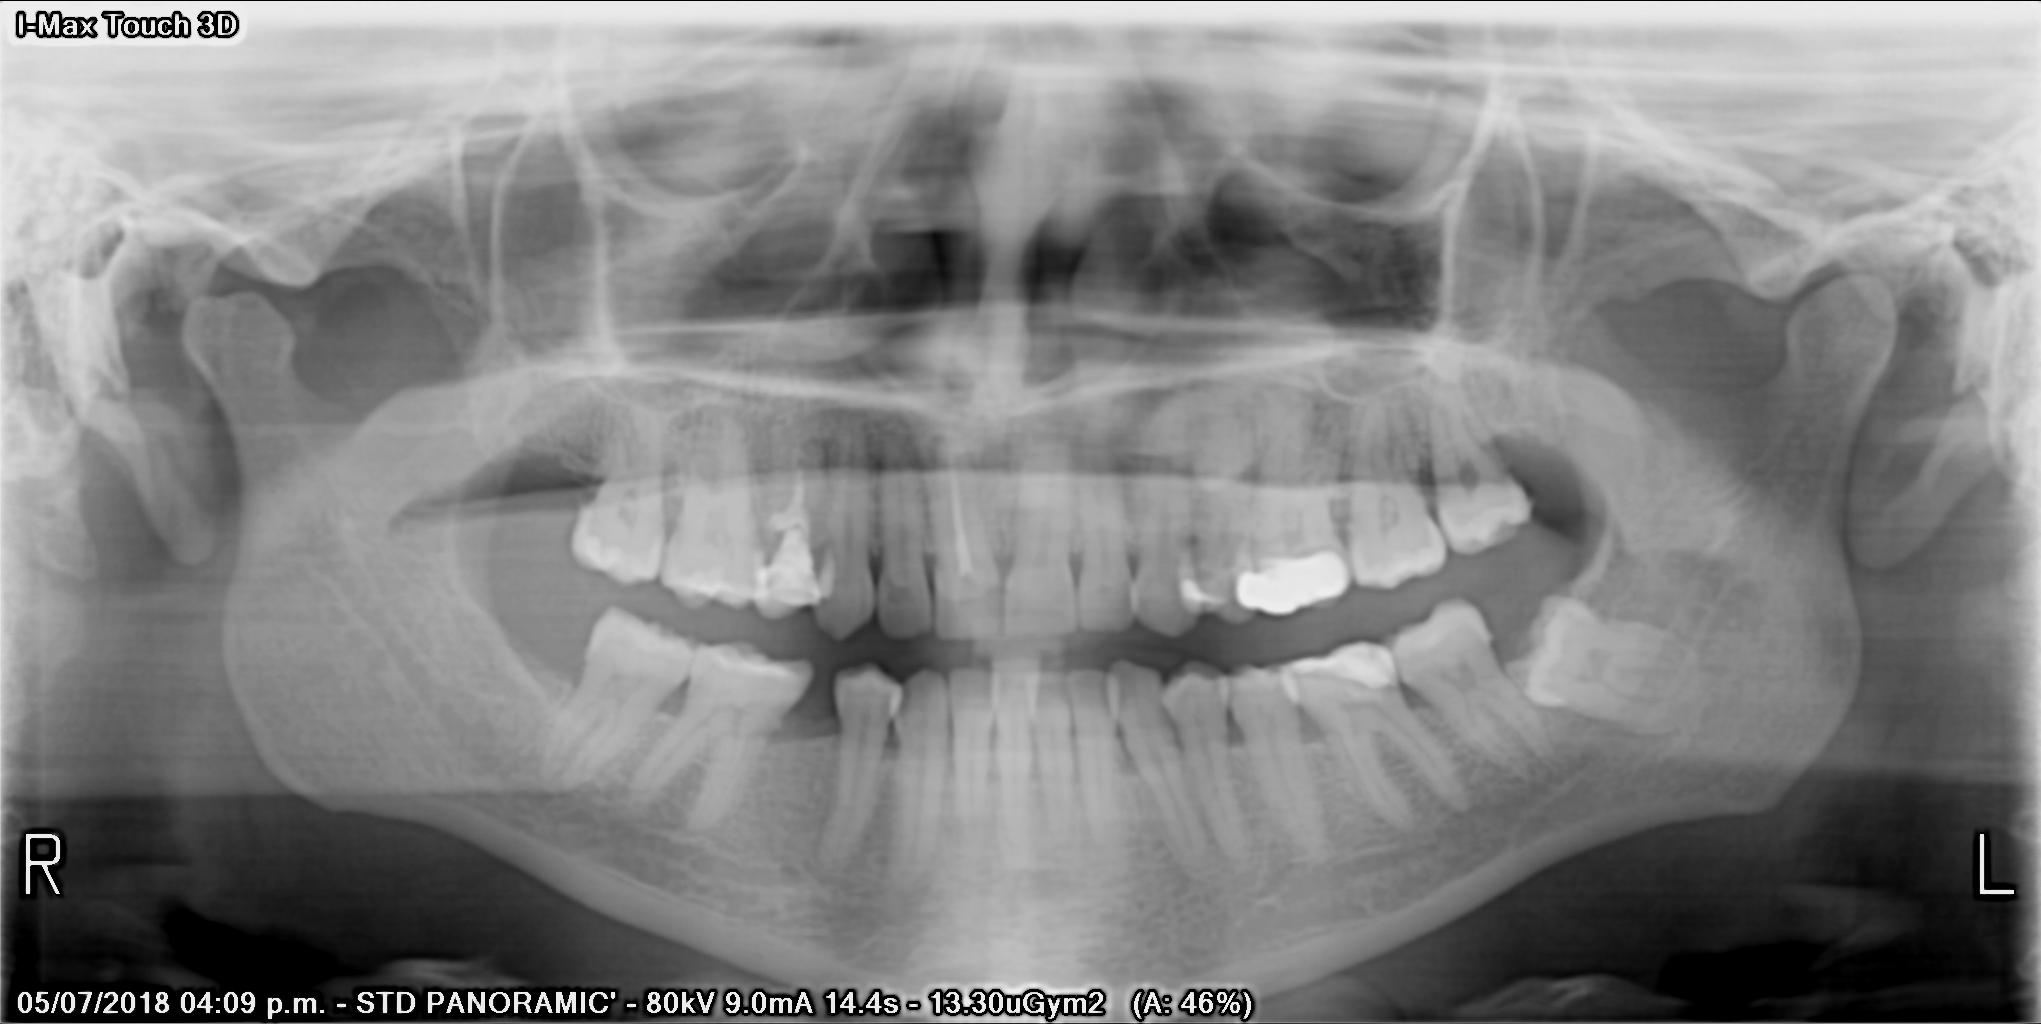Çürük: (1225, 552, 1358, 616), (1284, 633, 1406, 697), (767, 545, 832, 610), (1178, 573, 1217, 614)
Çürük Bölgesi: (757, 524, 783, 563), (778, 700, 790, 730)
